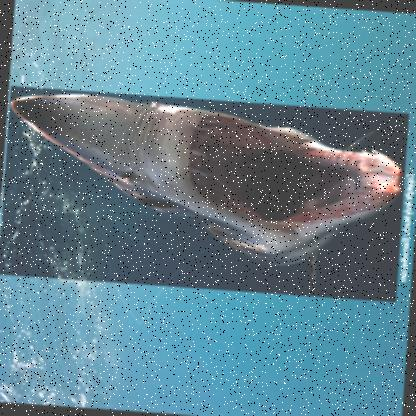mako-shark: (0, 86, 410, 304)
